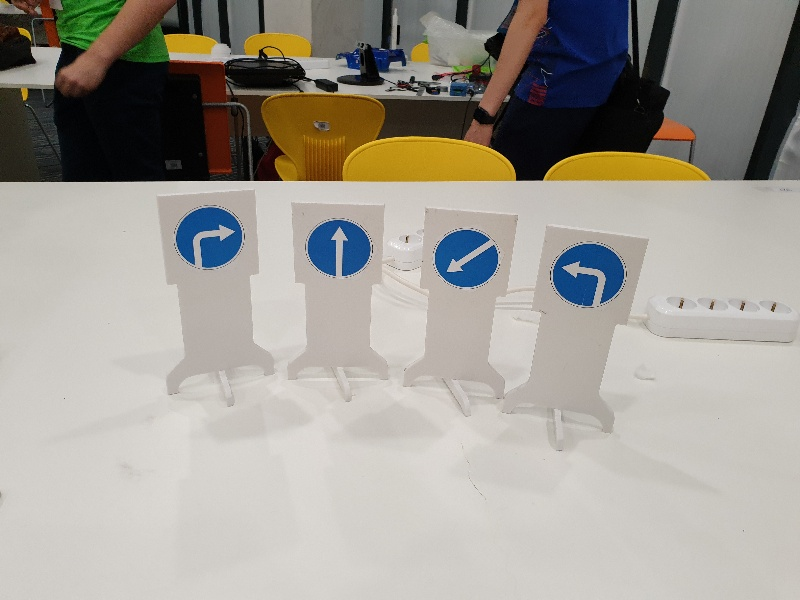Left: (547, 236, 633, 313)
Right: (170, 200, 249, 272)
forw: (301, 215, 378, 284)
prep: (427, 223, 504, 292)
